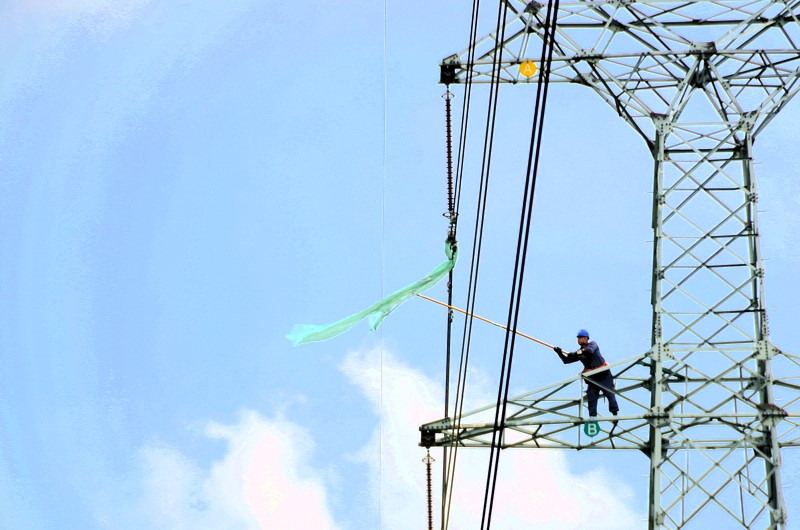wire foreign body: (289, 236, 465, 351)
